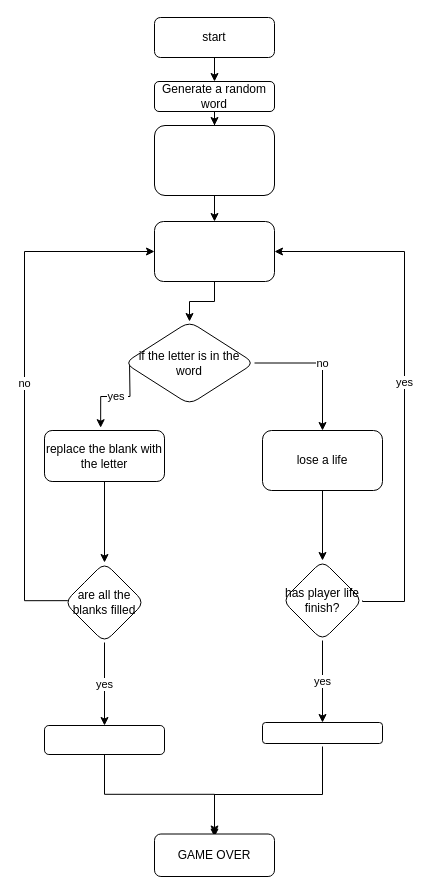
This 430x894 diagram has some shape labels left out. The shapes that lost their labels are listed below. From the top down, each one's centre as x and y in pixels, then its label:
At (x=214, y=160): "Generate blank spaces the same amount as the generated word".
At (x=214, y=251): "give the user an option to guess a letter".
At (x=104, y=739): "You win".
At (x=322, y=733): "you fail".
